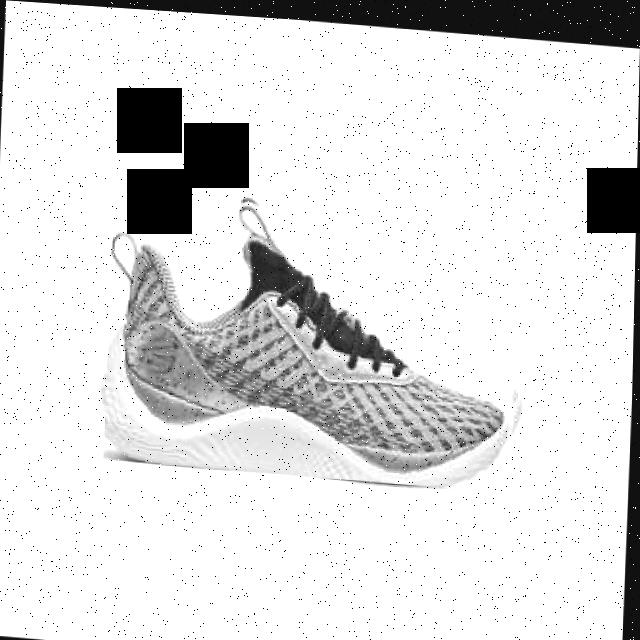shoe: (104, 181, 534, 487)
